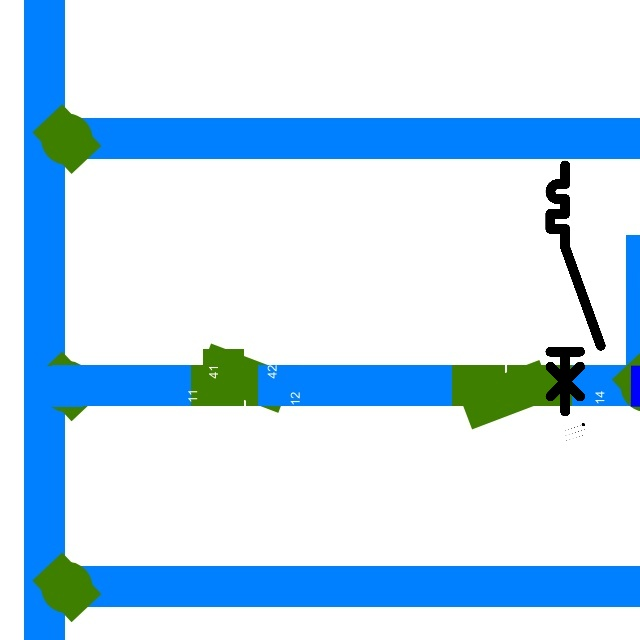interruptor_termomagnetico: (544, 159, 607, 418)
